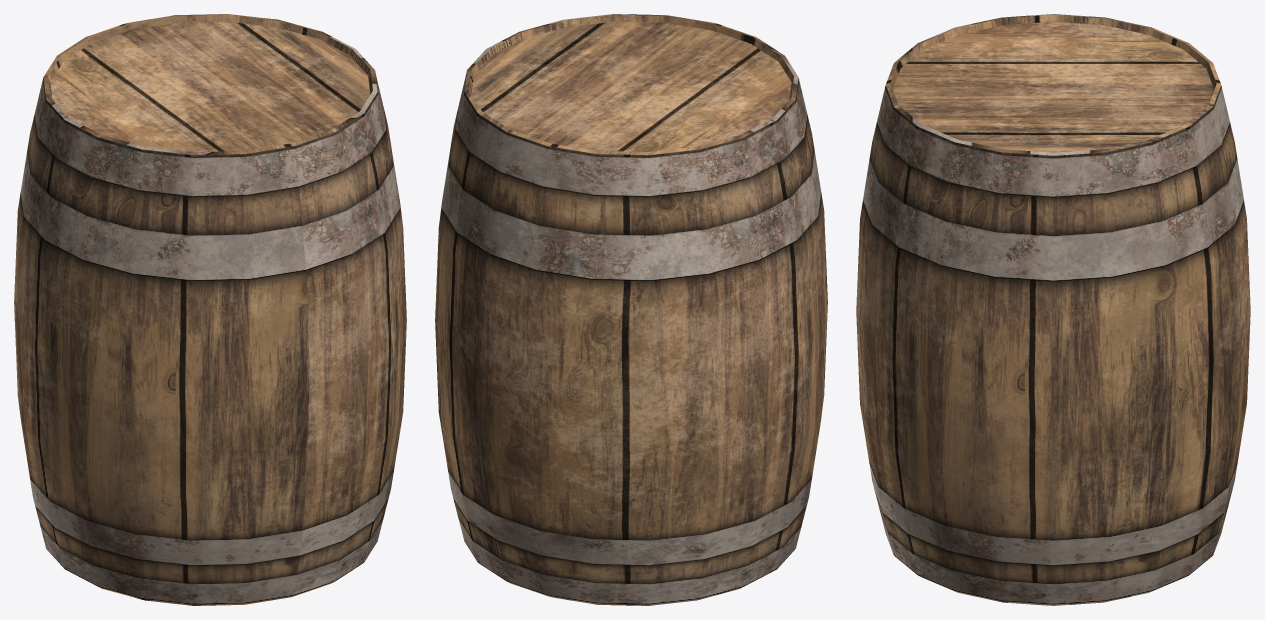
The model's file is SM_Barrel.FBX.
The picture shows the model from 3 angles, left to right: view 1: azimuth 30°, elevation 25°; view 2: azimuth 150°, elevation 25°; view 3: azimuth 270°, elevation 25°; orthographic projection.
Visible parts, largest first — view 1: Cylinder004; view 2: Cylinder004; view 3: Cylinder004.
Part boxes in pixels (<box>): Cylinder004: <box>14,14,406,605</box>; Cylinder004: <box>435,14,827,605</box>; Cylinder004: <box>856,14,1250,605</box>.
Bounding box in the file's own units: 33.31 × 42.29 × 33.31.
1 material, 1 textured.
